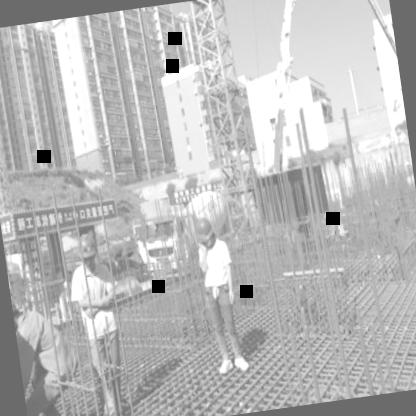helmet: (74, 230, 102, 274), (192, 214, 220, 249), (9, 286, 24, 335)
